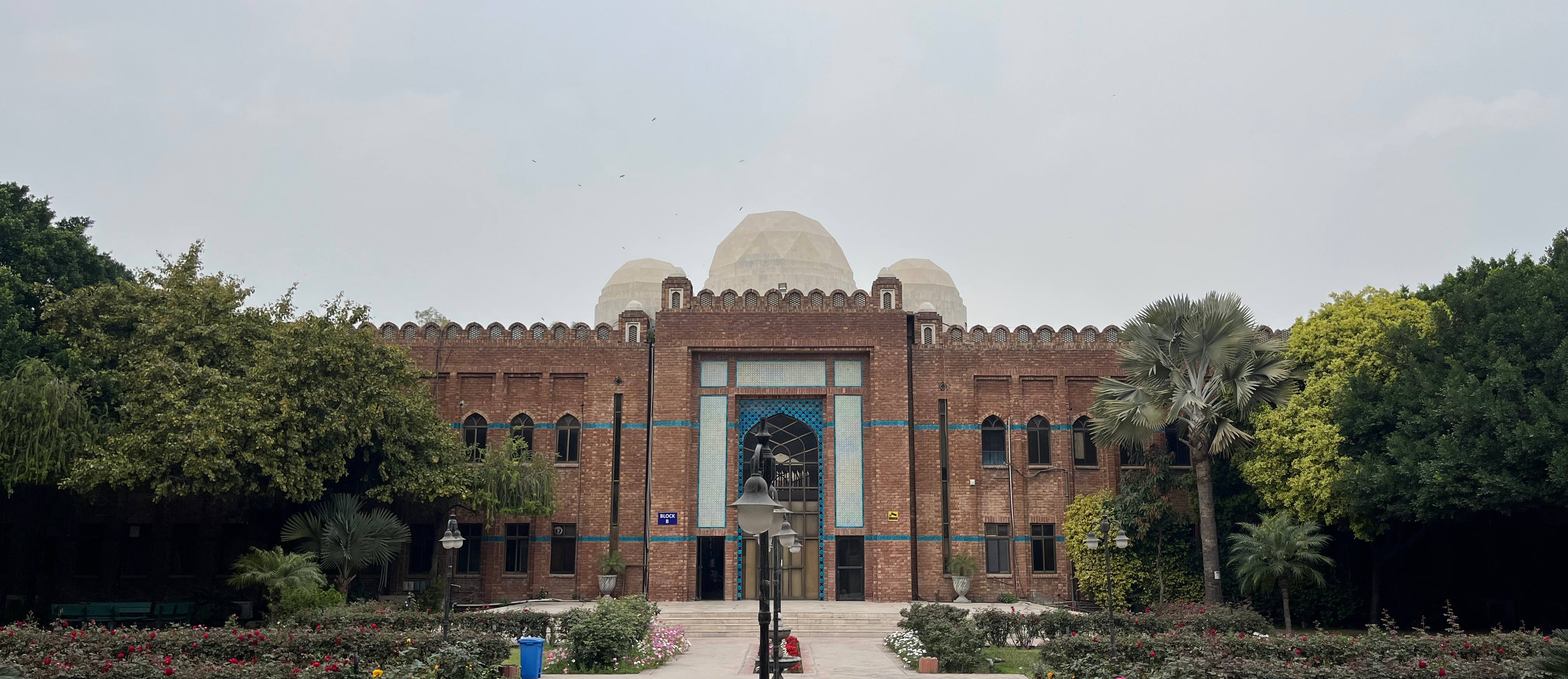Block B: (0, 186, 1568, 637)
